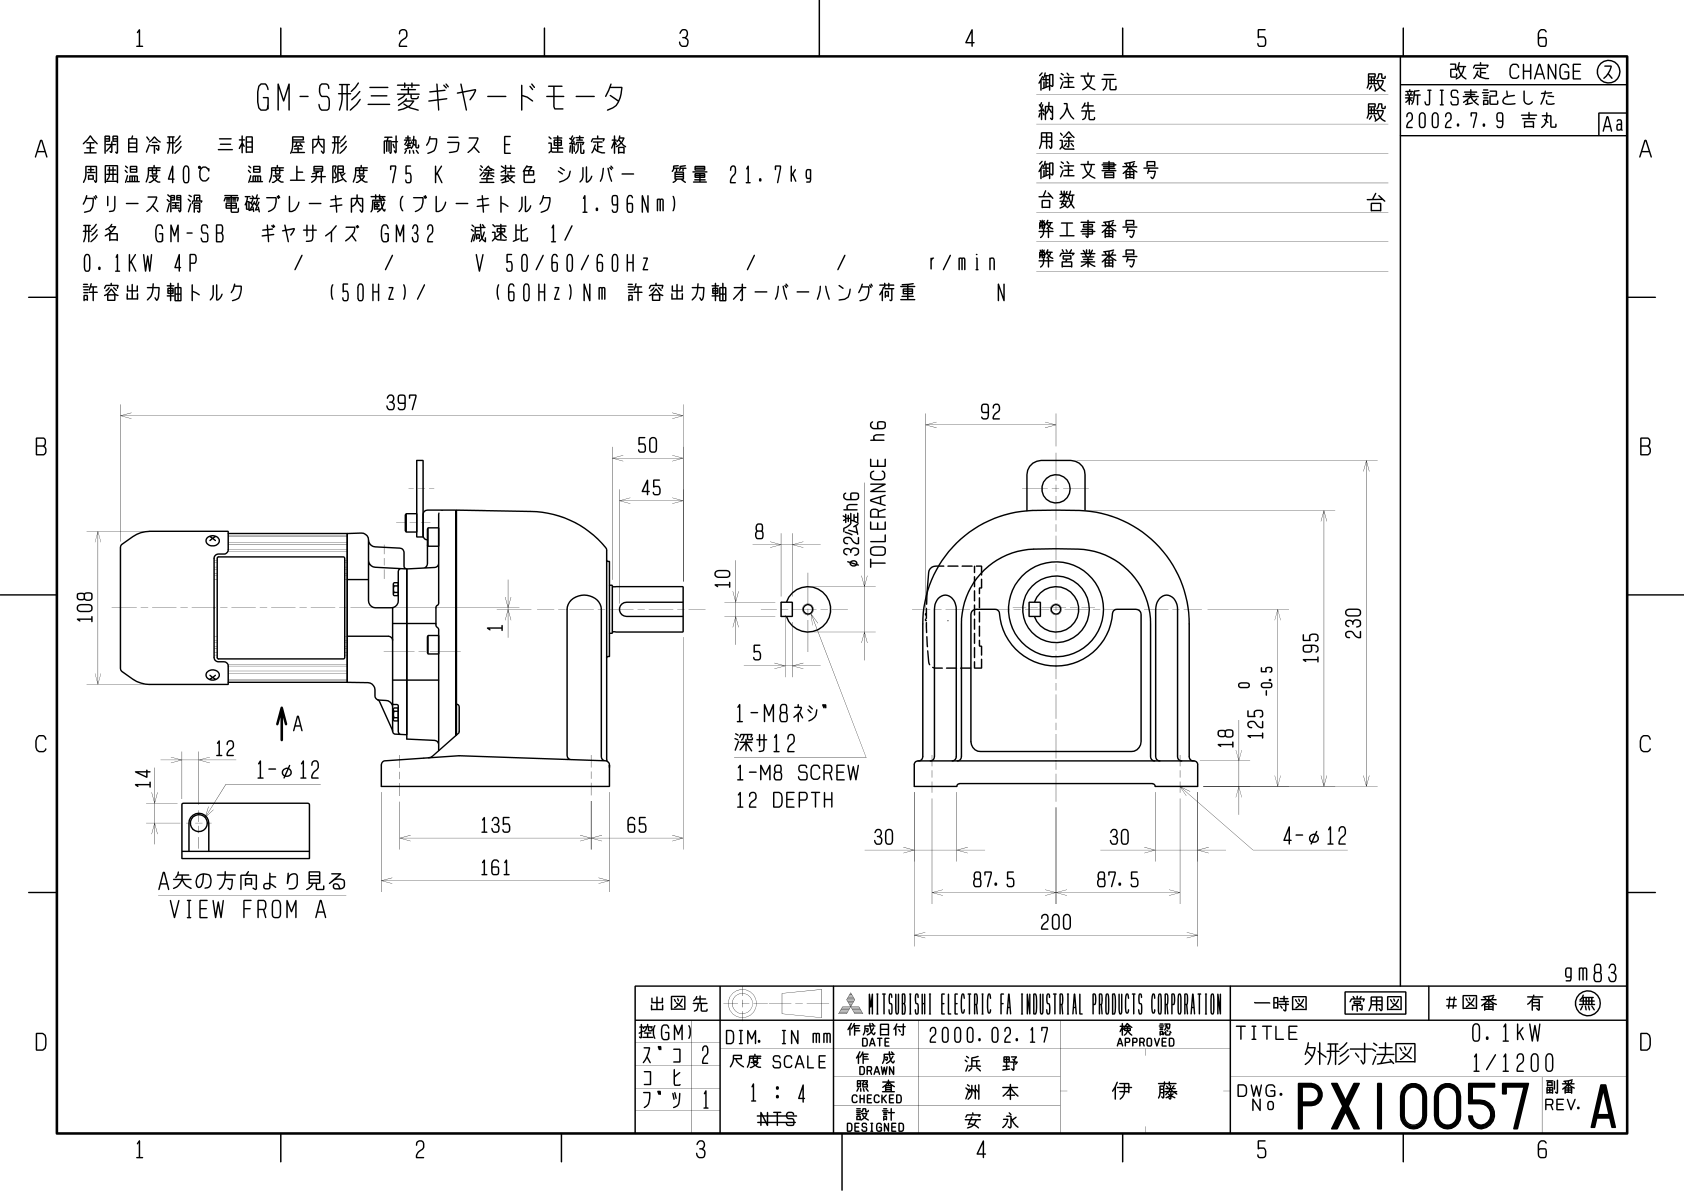GM_S_屋内＿三相_脚: (70, 361, 1393, 956)
